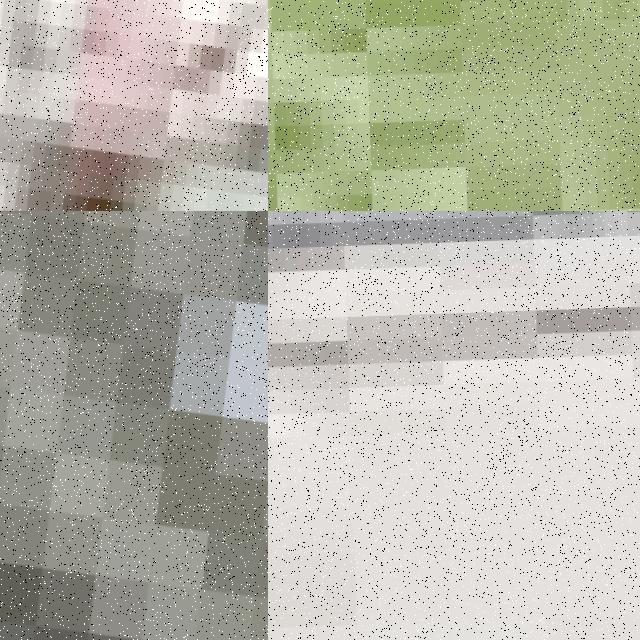0: (0, 0, 268, 211)
drone: (0, 211, 268, 640)
